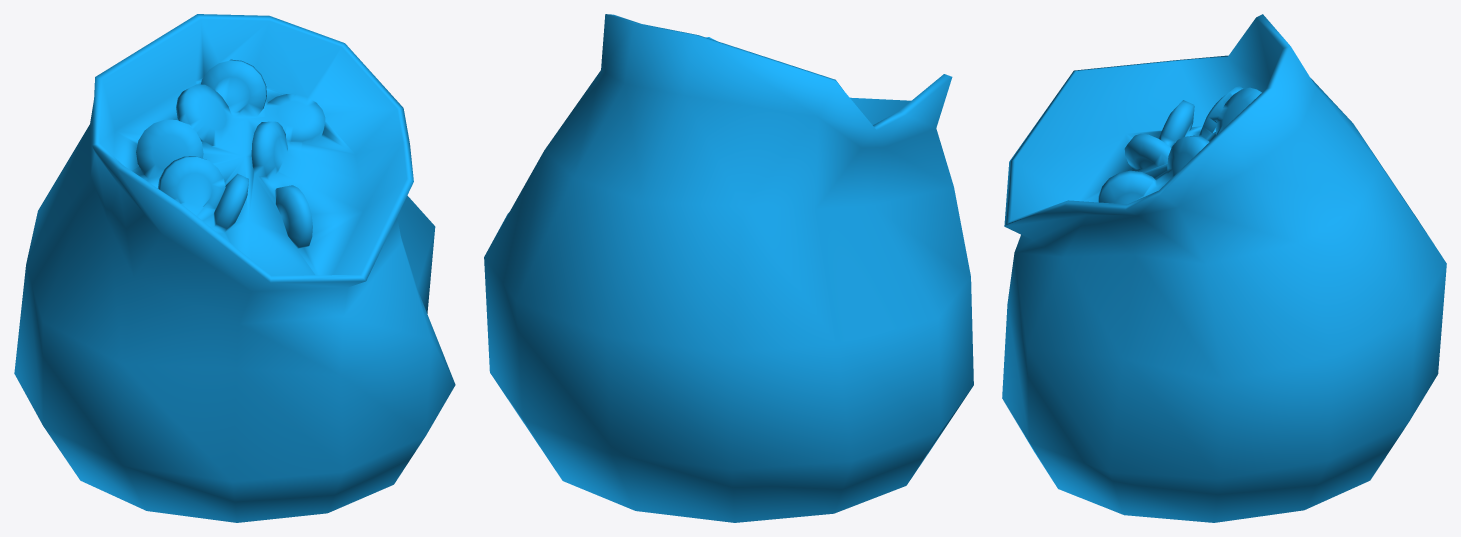
File: Golden_bag.FBX
3 renders of one model, left to right at view 1: azimuth 30°, elevation 25°; view 2: azimuth 150°, elevation 25°; view 3: azimuth 270°, elevation 25°, orthographic. The views are drawn at different scales.
Parts seen in each view (by area): view 1: Sphere004; view 2: Sphere004; view 3: Sphere004.
Boxes of the visible parts, x1,y1,x2,y2 form: Sphere004: (14, 14, 455, 522); Sphere004: (484, 14, 973, 522); Sphere004: (1002, 14, 1446, 522).
Bounding box in the file's own units: 18.21 × 18.65 × 17.86.
